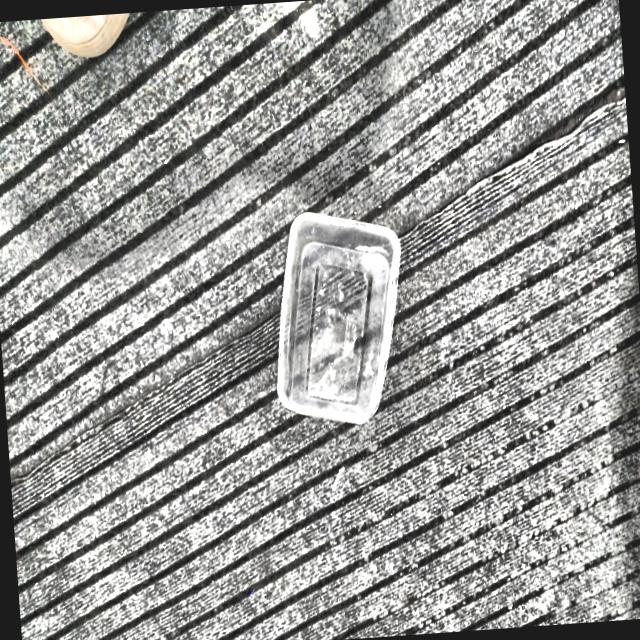plastic container: (277, 212, 400, 423)
